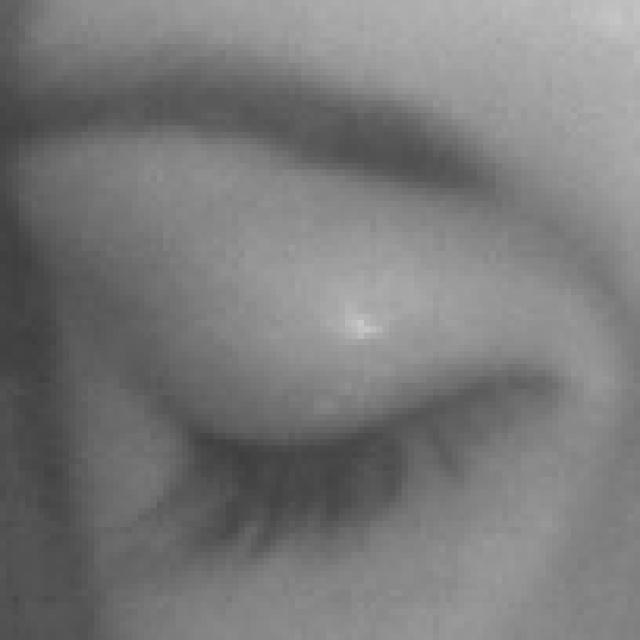Eyeclosed: (157, 261, 552, 613)
